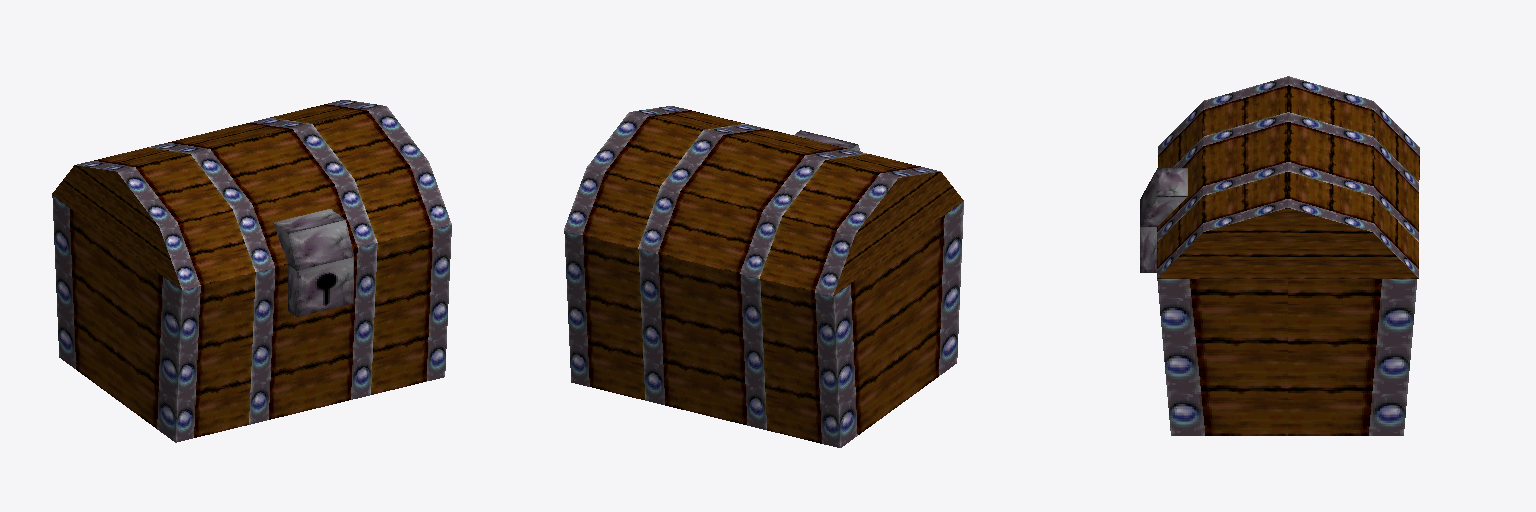
3 renders of one model, left to right at view 1: azimuth 30°, elevation 25°; view 2: azimuth 150°, elevation 25°; view 3: azimuth 270°, elevation 25°, orthographic.
Visible parts, largest first — view 1: 66_1FD06904_c.bmp, 78_1FD06904_c.bmp; view 2: 66_1FD06904_c.bmp, 78_1FD06904_c.bmp; view 3: 78_1FD06904_c.bmp, 66_1FD06904_c.bmp.
Boxes of the visible parts, <box> form: 66_1FD06904_c.bmp: <box>52,195,451,442</box>; 78_1FD06904_c.bmp: <box>52,100,451,316</box>; 66_1FD06904_c.bmp: <box>564,201,963,447</box>; 78_1FD06904_c.bmp: <box>564,106,963,296</box>; 78_1FD06904_c.bmp: <box>1140,76,1419,278</box>; 66_1FD06904_c.bmp: <box>1157,279,1416,435</box>.
Bounding box in the file's own units: 0.1832 × 0.148 × 0.1641.
Materials: 4 (4 with a texture image).